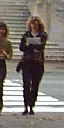person: (18, 12, 47, 112)
